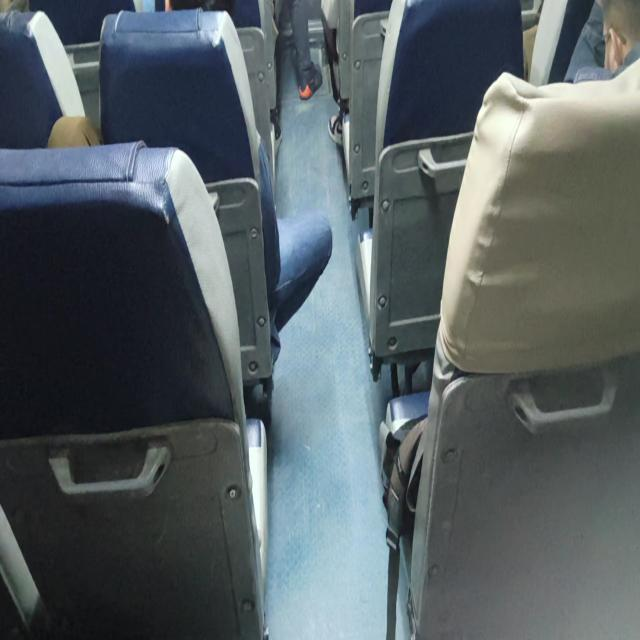person: (579, 0, 640, 89), (157, 0, 235, 34)
